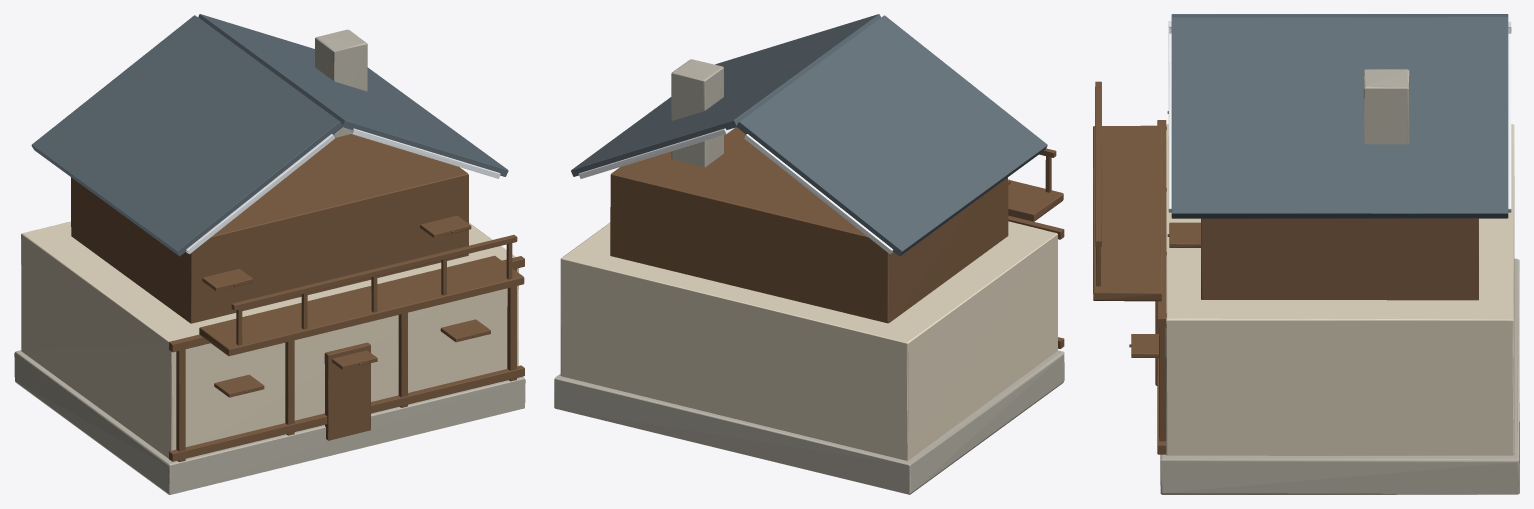
File: Building_Alpine_Chalet_01_LOD1.fbx
3 renders of one model, left to right at view 1: azimuth 30°, elevation 25°; view 2: azimuth 150°, elevation 25°; view 3: azimuth 270°, elevation 25°, orthographic. The views are drawn at different scales.
Visible parts, largest first — view 1: Chalet_LowerWalls, Chalet_Roof_L, Chalet_UpperWalls, Chalet_StoneBase, Chalet_Roof_R, Chalet_Balcony, Chalet_Beam_0.85, Chalet_Door, Chalet_Chimney, Chalet_BalconyRail, Chalet_SnowRoofL, Chalet_SnowRoofR (+10 smaller); view 2: Chalet_LowerWalls, Chalet_UpperWalls, Chalet_Roof_L, Chalet_StoneBase, Chalet_Roof_R, Chalet_Chimney, Chalet_Balcony, Chalet_SnowRoofL, Chalet_SnowRoofR; view 3: Chalet_Roof_R, Chalet_LowerWalls, Chalet_UpperWalls, Chalet_StoneBase, Chalet_Balcony, Chalet_Chimney, Chalet_SnowRoofR, Chalet_Beam_3.25, Chalet_BalconyRail, Chalet_Roof_L, Chalet_WindowUpper_2.5_Frame, Chalet_Timber_3.8 (+1 smaller).
Part boxes in pixels (x1,y1,x2,y2): Chalet_LowerWalls: (21, 221, 518, 458); Chalet_Roof_L: (31, 15, 342, 256); Chalet_UpperWalls: (71, 134, 468, 323); Chalet_StoneBase: (14, 350, 525, 494); Chalet_Roof_R: (198, 14, 508, 176); Chalet_Balcony: (199, 255, 524, 356); Chalet_Beam_0.85: (168, 365, 524, 461); Chalet_Door: (324, 342, 370, 440); Chalet_Chimney: (315, 29, 367, 137); Chalet_BalconyRail: (231, 235, 517, 310); Chalet_SnowRoofL: (186, 134, 334, 254); Chalet_SnowRoofR: (343, 127, 500, 178); Chalet_LowerWalls: (560, 221, 1057, 460); Chalet_UpperWalls: (610, 127, 1008, 323); Chalet_Roof_L: (736, 15, 1047, 256); Chalet_StoneBase: (554, 350, 1064, 494); Chalet_Roof_R: (571, 14, 880, 176); Chalet_Chimney: (671, 59, 723, 167); Chalet_Balcony: (1008, 180, 1063, 221); Chalet_SnowRoofL: (744, 134, 892, 253); Chalet_SnowRoofR: (578, 127, 735, 178); Chalet_Roof_R: (1171, 17, 1508, 218); Chalet_LowerWalls: (1165, 124, 1514, 455); Chalet_UpperWalls: (1201, 218, 1478, 300); Chalet_StoneBase: (1160, 258, 1519, 494); Chalet_Balcony: (1093, 125, 1161, 301); Chalet_Chimney: (1363, 69, 1409, 144); Chalet_SnowRoofR: (1168, 33, 1511, 212); Chalet_Beam_3.25: (1157, 120, 1166, 327); Chalet_BalconyRail: (1095, 81, 1101, 246); Chalet_Roof_L: (1171, 14, 1508, 16); Chalet_WindowUpper_2.5_Frame: (1169, 222, 1200, 247); Chalet_Timber_3.8: (1159, 313, 1166, 441).
Size of the model in its own units: 820 by 720 by 734.
